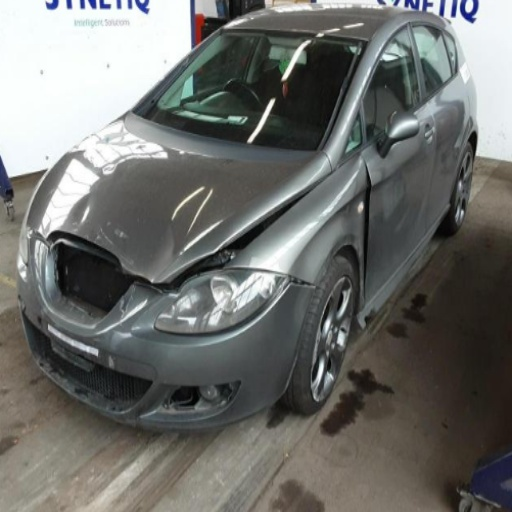dent: (288, 189, 367, 309), (90, 216, 175, 283), (71, 196, 92, 225)
scratch: (99, 227, 112, 244), (120, 252, 134, 266), (113, 227, 129, 238), (106, 220, 111, 226), (97, 234, 100, 238)
